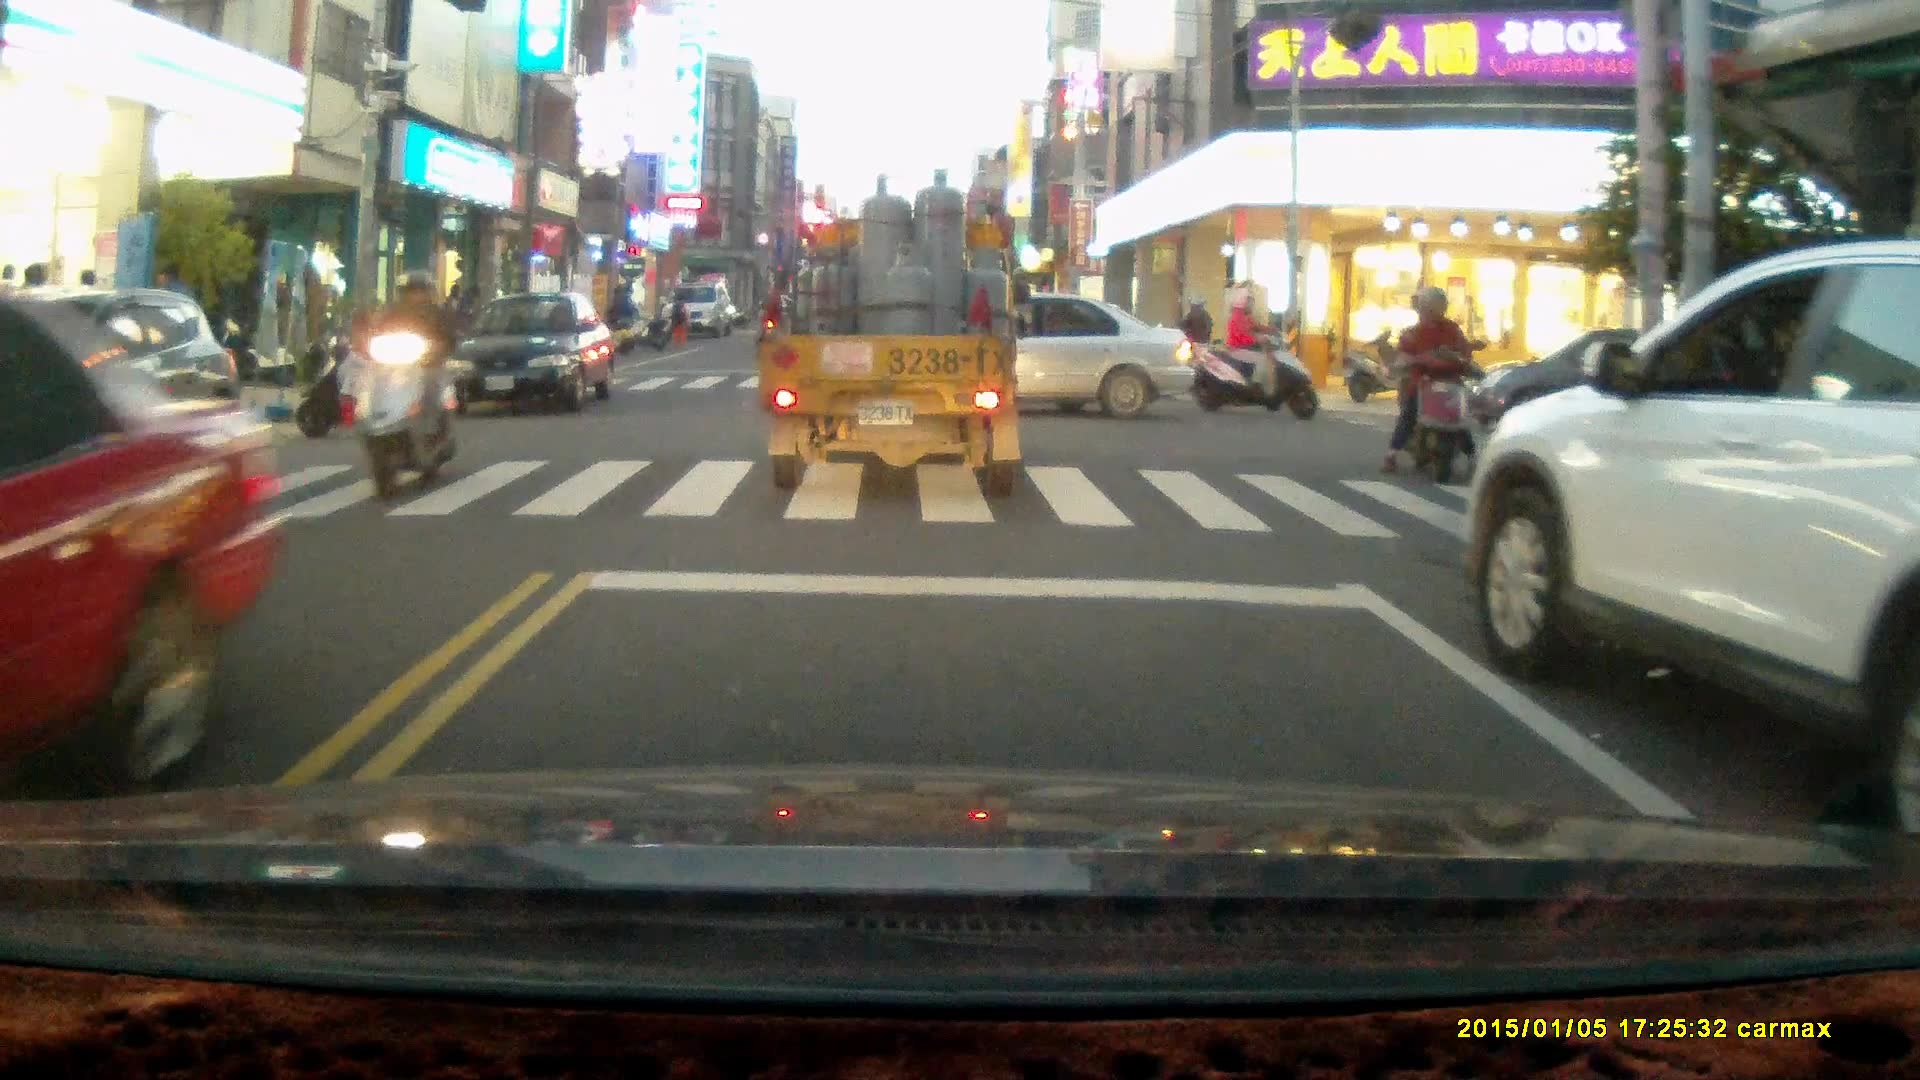pedestrian: (331, 333, 372, 441), (611, 282, 638, 345), (668, 290, 690, 347)
rider: (345, 267, 461, 501), (1376, 285, 1493, 489), (1190, 286, 1320, 415), (1134, 290, 1229, 400)
vehicle: (1469, 238, 1920, 835), (1, 275, 271, 799), (763, 177, 1027, 505), (814, 290, 1196, 420), (446, 292, 619, 415), (661, 283, 732, 336)
